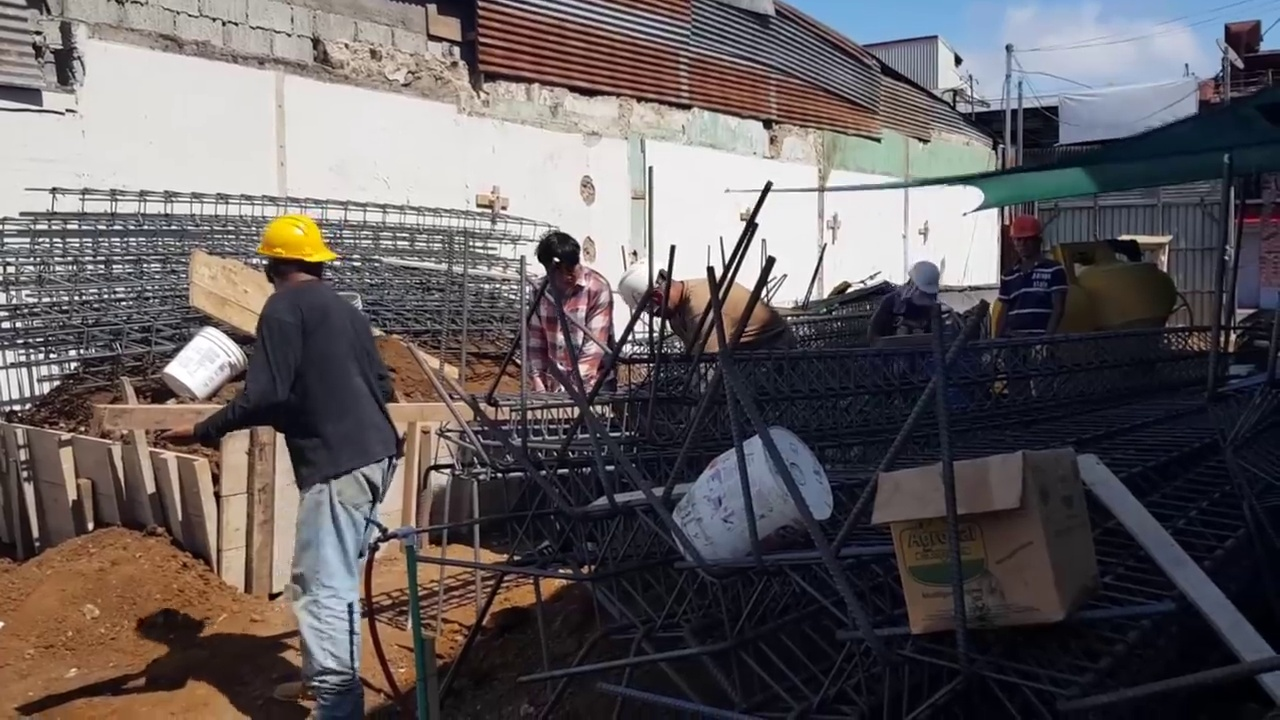helmet: (254, 212, 336, 266), (620, 256, 662, 315), (1009, 218, 1049, 242), (904, 267, 936, 295)
helmet-off: (534, 231, 579, 294)
helmet-on: (251, 217, 337, 300), (618, 260, 684, 333), (898, 264, 944, 308), (1009, 214, 1048, 264)
person: (185, 194, 403, 719), (596, 244, 798, 363), (521, 234, 612, 395), (988, 212, 1070, 344), (865, 263, 949, 344)
